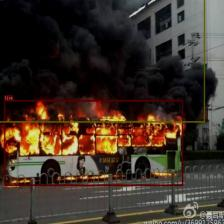fire: (4, 100, 183, 186)
smoke: (0, 0, 204, 122)
